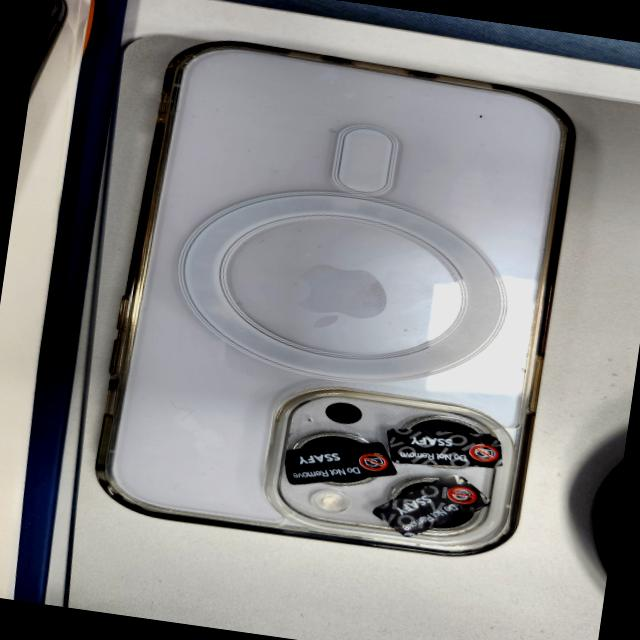phone: (91, 32, 576, 569)
removed_sticker: (370, 468, 487, 541), (384, 422, 507, 476)
sticker: (280, 432, 387, 498)
